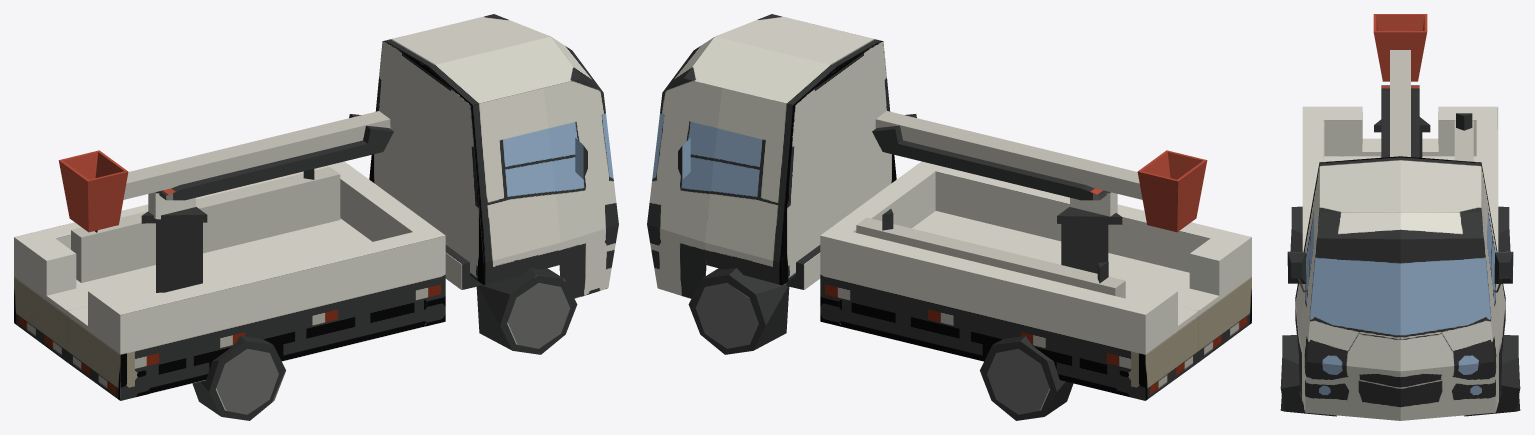
File: caminhaoDeLampadaLOD.fbx
3 renders of one model, left to right at view 1: azimuth 30°, elevation 25°; view 2: azimuth 150°, elevation 25°; view 3: azimuth 270°, elevation 25°, orthographic. The views are drawn at different scales.
Parts seen in each view (by area): view 1: caminhaoDeLampadaLOD0; view 2: caminhaoDeLampadaLOD0; view 3: caminhaoDeLampadaLOD0.
Part boxes in pixels (<box>): caminhaoDeLampadaLOD0: <box>14,14,618,420</box>; caminhaoDeLampadaLOD0: <box>647,14,1251,420</box>; caminhaoDeLampadaLOD0: <box>1280,14,1520,420</box>.
Bounding box in the file's own units: 837 × 387 × 363.
